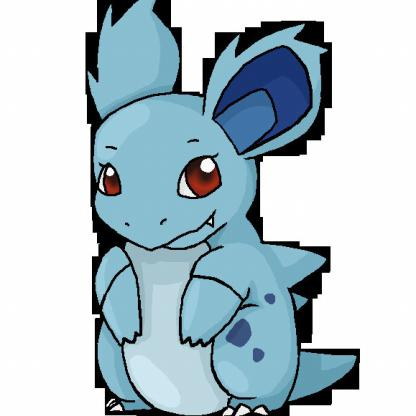Nidorina: (72, 1, 365, 416)
